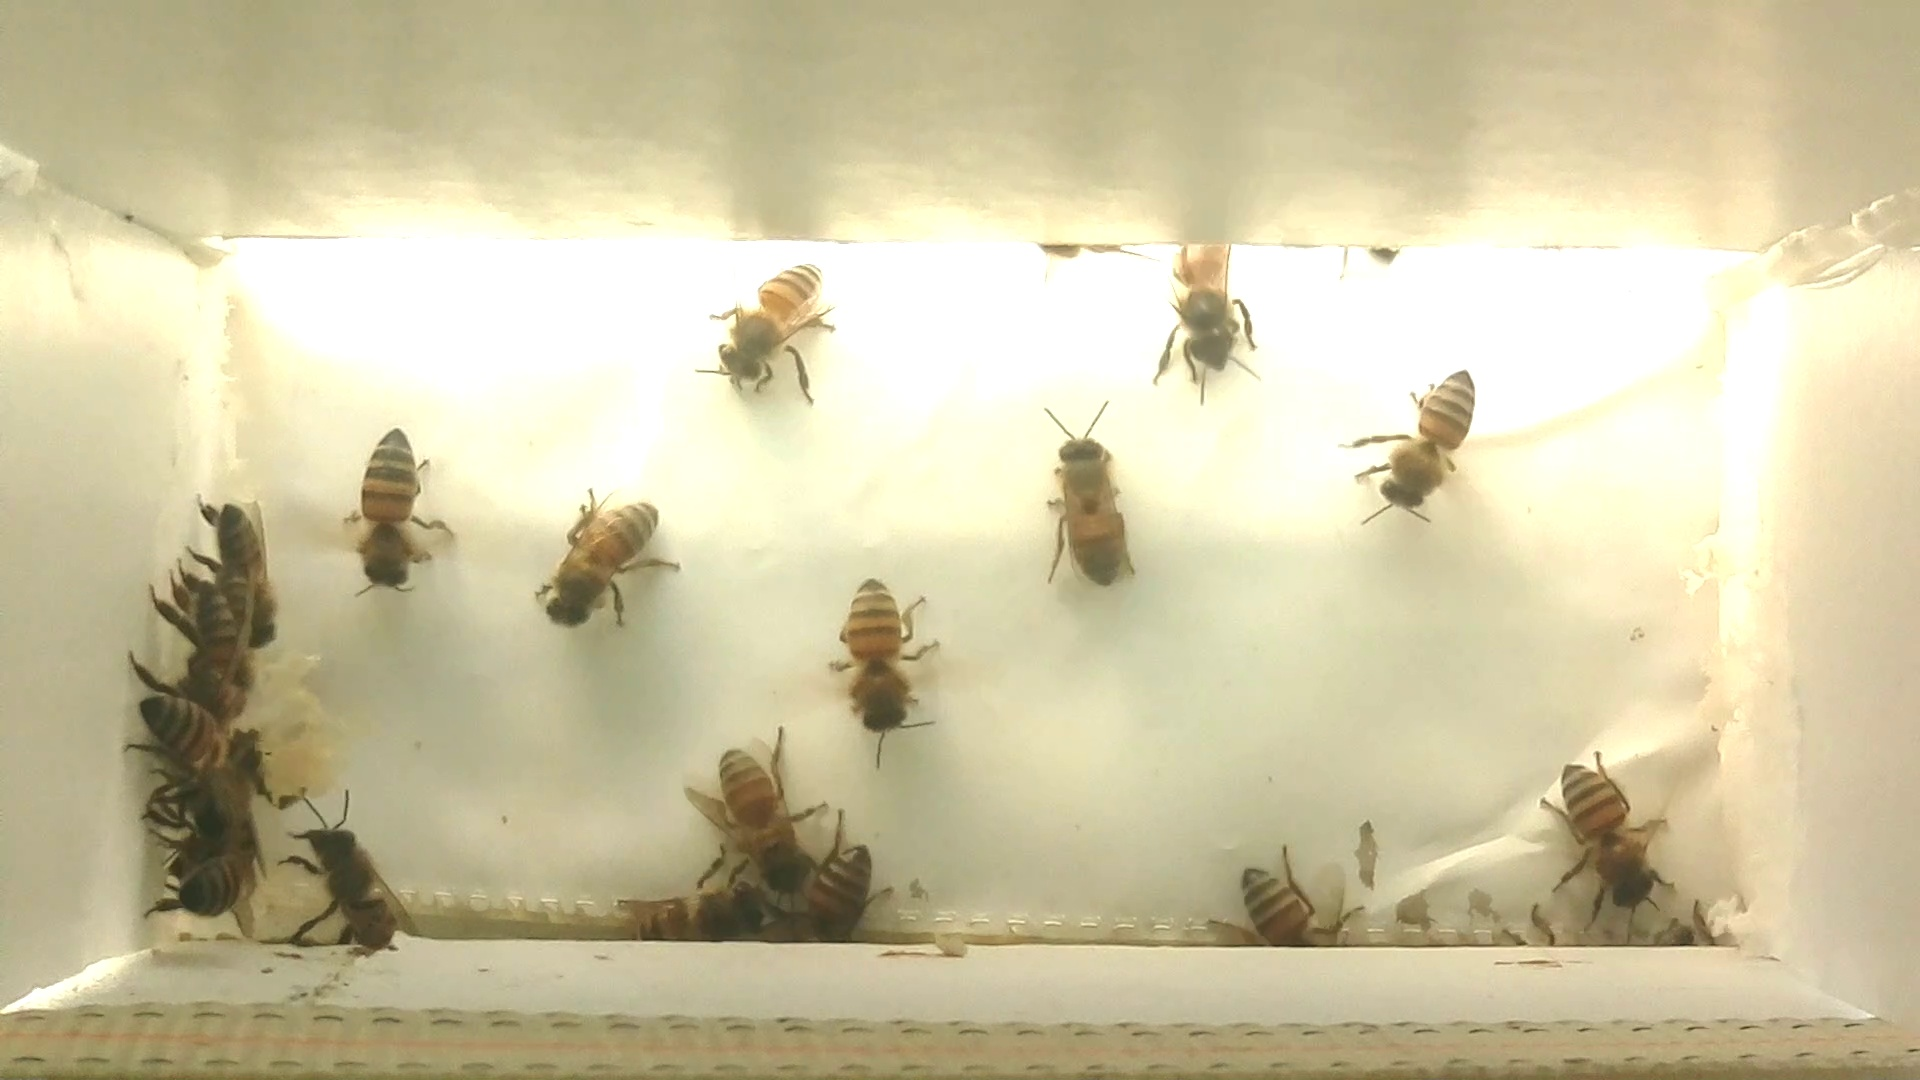bee: (796, 560, 963, 771), (1528, 749, 1700, 944), (1338, 345, 1506, 535), (316, 406, 468, 616), (524, 475, 694, 646), (688, 245, 848, 410), (1139, 229, 1279, 410), (1025, 401, 1146, 600), (286, 795, 429, 955), (688, 731, 823, 895), (1205, 837, 1364, 963), (601, 851, 781, 959), (190, 479, 290, 646), (149, 568, 264, 713), (138, 808, 265, 936), (115, 654, 228, 796), (781, 804, 887, 953)
